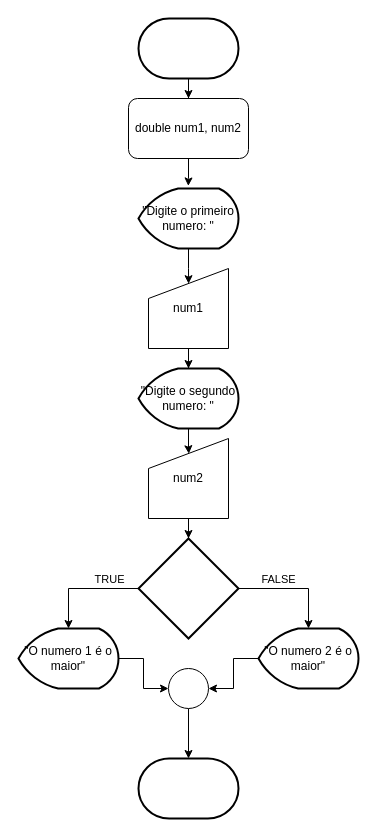
The diagram is 376 pixels wide and 836 high, and some of its shapes have lost their labels. Here are the shapes that lost their labels. From the top down, the box of each, then its label:
(137, 17, 239, 79): INICIO
(137, 537, 239, 639): num1 > num2
(137, 757, 239, 819): FIM
